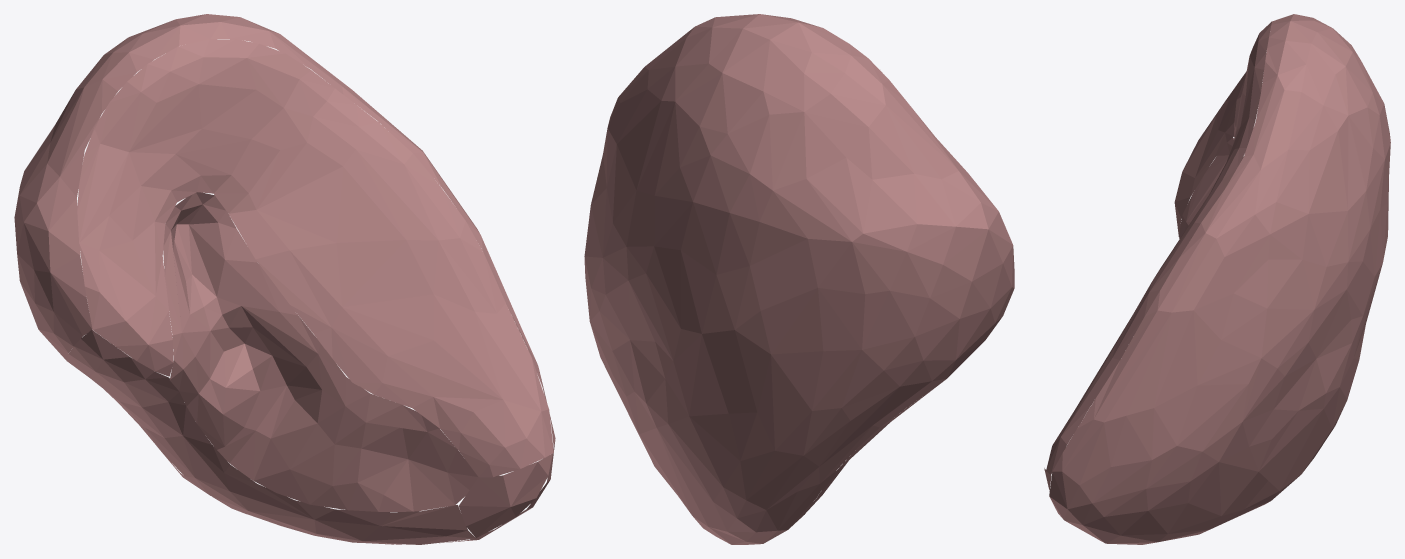
File: VH_F_Spleen_0.1.glb
3 views of the same model, side by side, from view 1: azimuth 30°, elevation 25°; view 2: azimuth 150°, elevation 25°; view 3: azimuth 270°, elevation 25° (orthographic). The views are drawn at different scales.
Visible parts, largest first — view 1: VH_F_gastric_surface_of_spleen, VH_F_hilum_of_spleen, VH_F_diaphragmatic_surface_of_spleen, VH_F_renal_surface_of_spleen, VH_F_colic_surface_of_spleen; view 2: VH_F_diaphragmatic_surface_of_spleen, VH_F_renal_surface_of_spleen; view 3: VH_F_diaphragmatic_surface_of_spleen, VH_F_gastric_surface_of_spleen, VH_F_hilum_of_spleen.
Part boxes in pixels (x1,y1,x2,y2): VH_F_gastric_surface_of_spleen: [77, 39, 553, 477]; VH_F_hilum_of_spleen: [163, 192, 478, 511]; VH_F_diaphragmatic_surface_of_spleen: [14, 14, 555, 544]; VH_F_renal_surface_of_spleen: [67, 330, 475, 544]; VH_F_colic_surface_of_spleen: [459, 453, 552, 537]; VH_F_diaphragmatic_surface_of_spleen: [584, 14, 1014, 544]; VH_F_renal_surface_of_spleen: [807, 382, 942, 511]; VH_F_diaphragmatic_surface_of_spleen: [1049, 14, 1390, 544]; VH_F_gastric_surface_of_spleen: [1046, 21, 1271, 474]; VH_F_hilum_of_spleen: [1179, 138, 1243, 238].
Bounding box in the file's own units: 0.0897 × 0.1027 × 0.0714.
